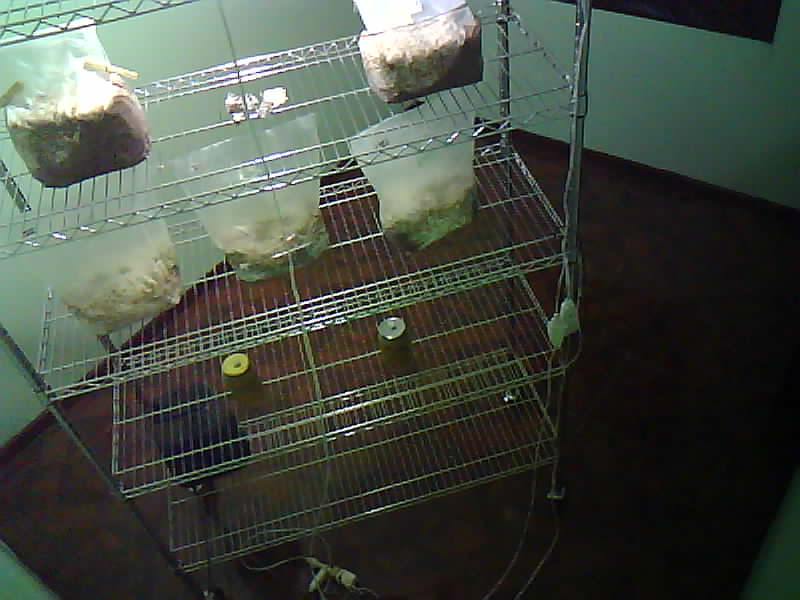bloco: (176, 115, 320, 307), (360, 85, 495, 280), (2, 40, 167, 188), (51, 197, 180, 370), (343, 3, 488, 110)
